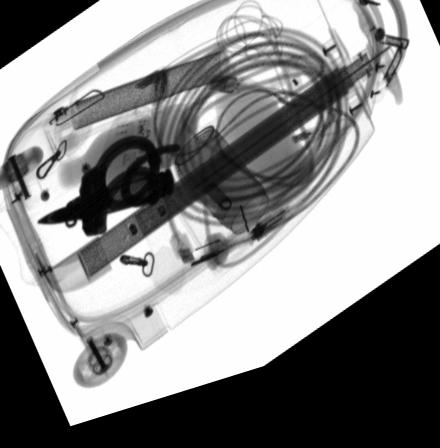Bullet: (36, 176, 175, 229)
HandCuffs: (62, 142, 181, 245)
